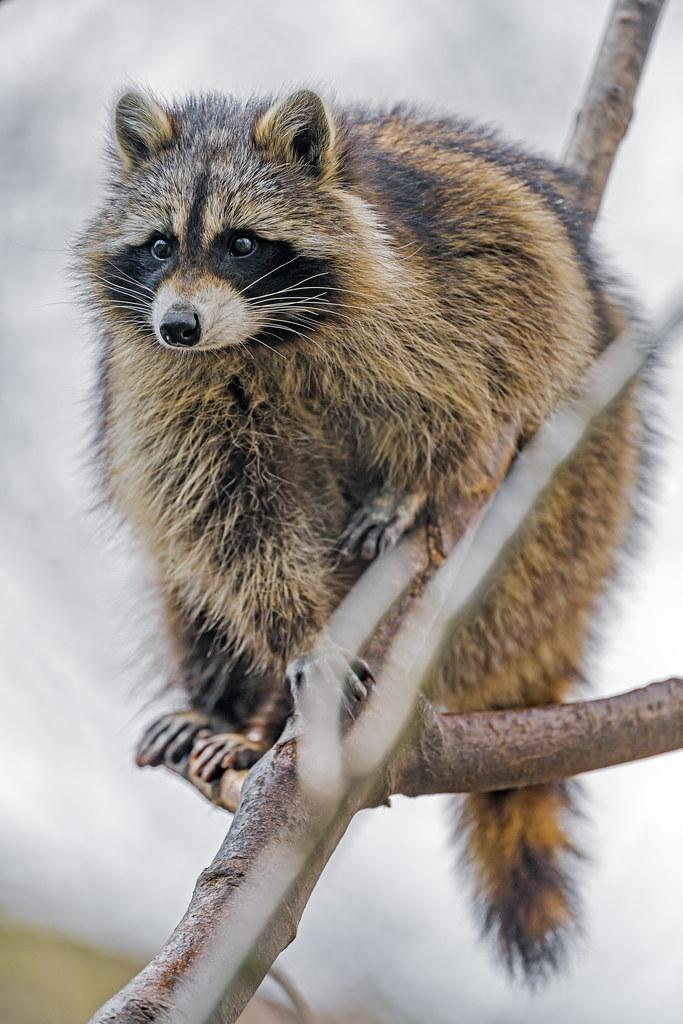raccoon: (66, 80, 668, 994)
